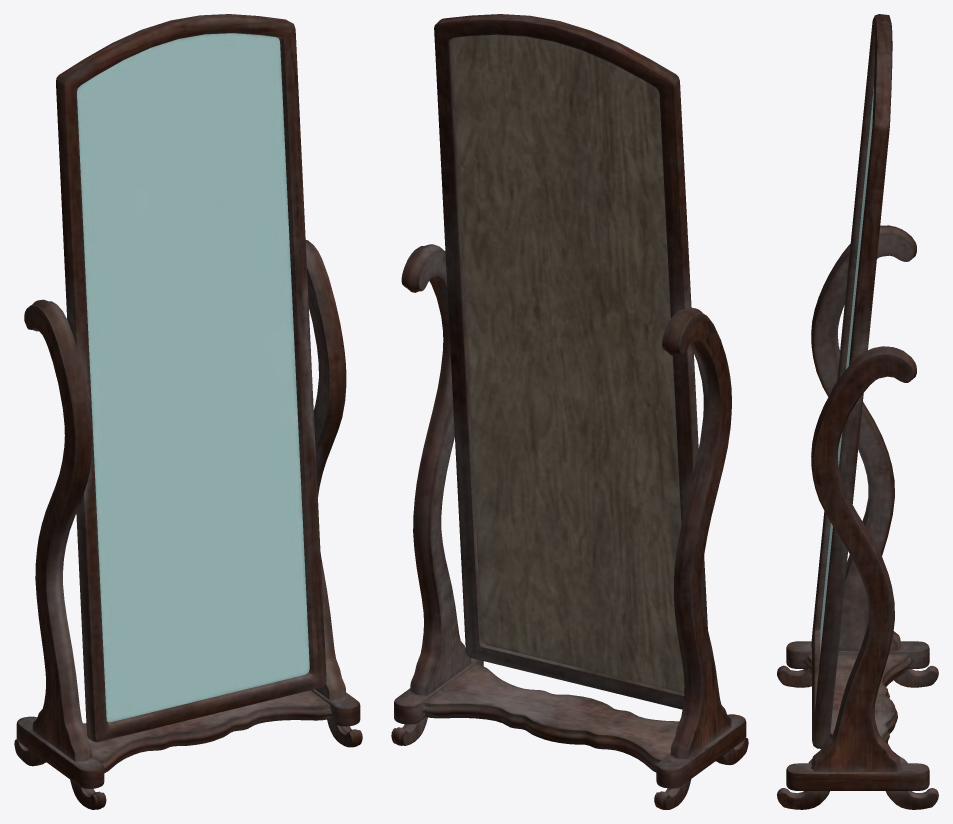
File: mirror-standing-ornate.lod1.glb
3 views of the same model, side by side, from view 1: azimuth 30°, elevation 25°; view 2: azimuth 150°, elevation 25°; view 3: azimuth 270°, elevation 25° (orthographic). The views are drawn at different scales.
Visible parts, largest first — view 1: mirror-standing-ornate; view 2: mirror-standing-ornate; view 3: mirror-standing-ornate.
Boxes of the visible parts, bbox=[...] form: mirror-standing-ornate: bbox=[14, 14, 362, 809]; mirror-standing-ornate: bbox=[391, 14, 748, 809]; mirror-standing-ornate: bbox=[777, 14, 938, 809].
Bounding box in the file's own units: 0.7162 × 1.76 × 0.3679.
Materials: 1 (1 with a texture image).
